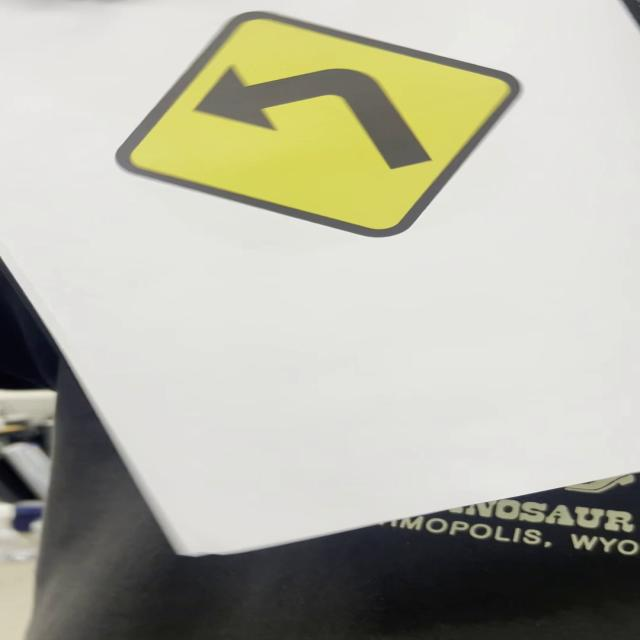left: (116, 7, 519, 239)
